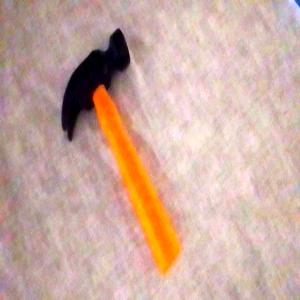martelo: (60, 28, 183, 278)
